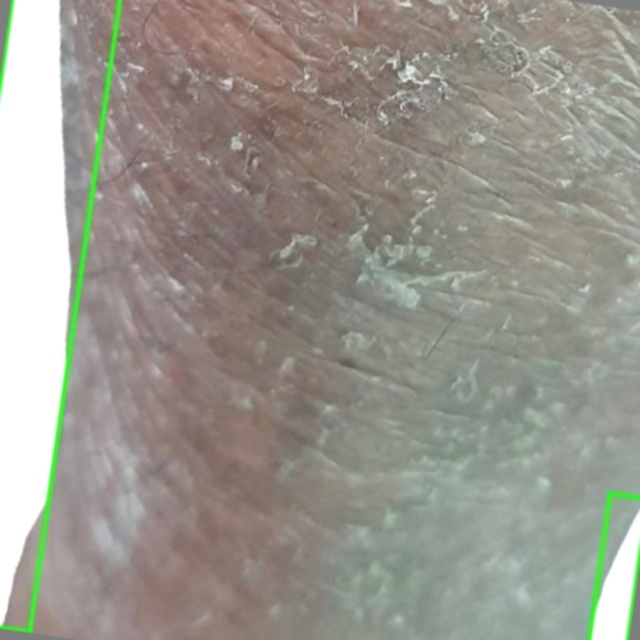Tinea Corporis: (0, 0, 119, 631), (589, 493, 639, 639)
